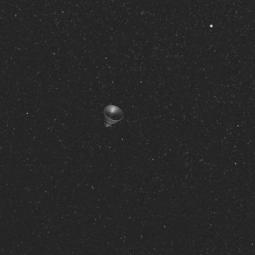debris: (95, 101, 127, 137)
